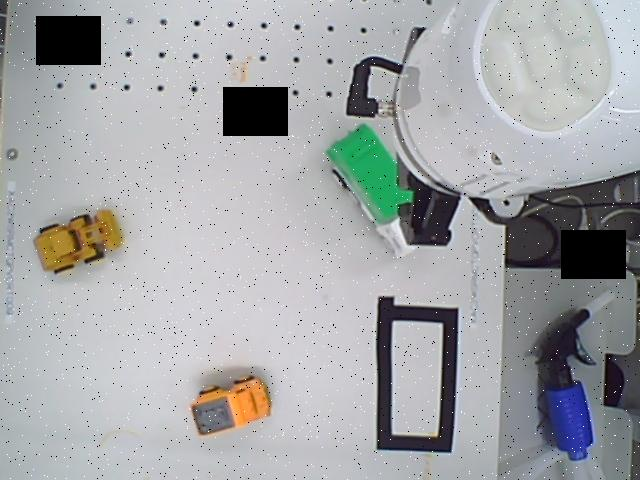Diesel car: (188, 368, 274, 440)
Electric car: (322, 122, 422, 268)
Gasoline car: (33, 199, 123, 280)
